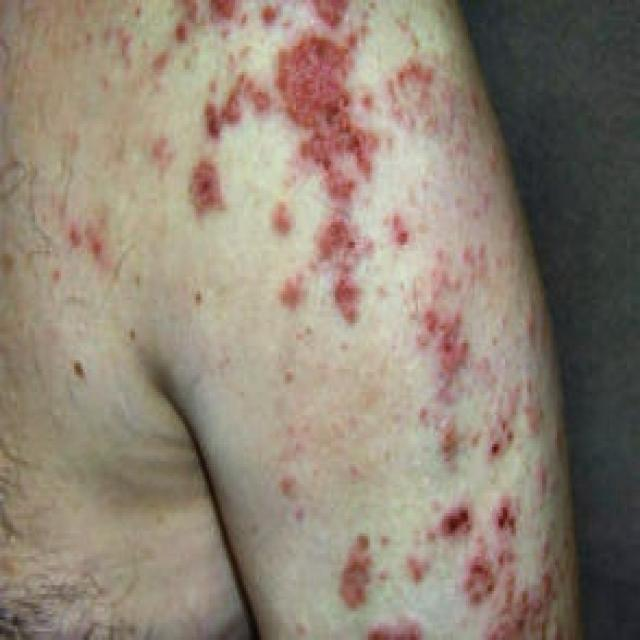Atopic-Dermatitis: (116, 2, 574, 636)
